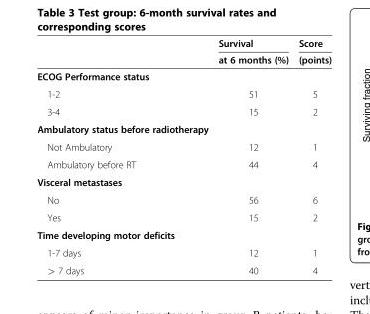table: (36, 37, 331, 275)
table column: (36, 37, 212, 275), (212, 37, 292, 275), (292, 37, 331, 275)
table column header: (36, 37, 331, 67)
table projected row header: (36, 172, 331, 190), (36, 225, 331, 243), (36, 67, 331, 84), (36, 120, 331, 137)
table row: (36, 84, 331, 102), (36, 102, 331, 120), (36, 137, 331, 155), (36, 172, 331, 190), (36, 190, 331, 208), (36, 225, 331, 243), (36, 243, 331, 261), (36, 67, 331, 84), (36, 120, 331, 137), (36, 155, 331, 172), (36, 208, 331, 225), (36, 51, 331, 67), (36, 37, 331, 51), (36, 261, 331, 275)
table spanning cell: (212, 37, 292, 67), (292, 37, 331, 67)
